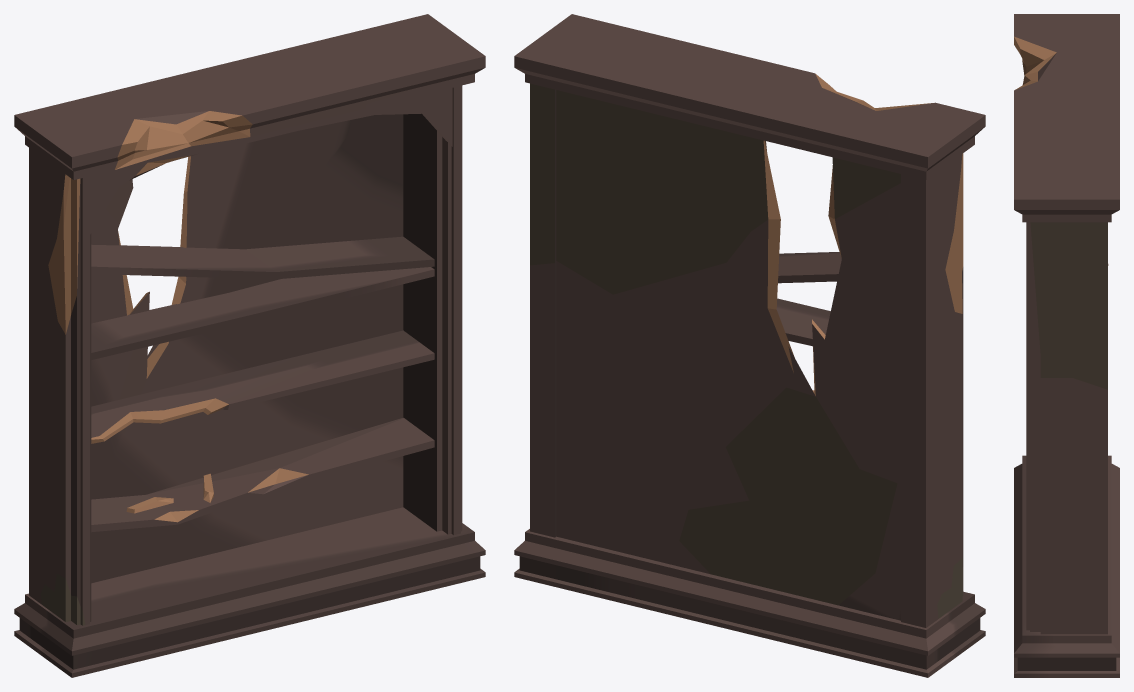
The model's file is SM_Prop_Shelf_02.obj.
3 renders of one model, left to right at view 1: azimuth 30°, elevation 25°; view 2: azimuth 150°, elevation 25°; view 3: azimuth 270°, elevation 25°, orthographic. The views are drawn at different scales.
Parts seen in each view (by area): view 1: SM_Prop_Shelf_02_0, SM_Prop_Shelf_02_1; view 2: SM_Prop_Shelf_02_0; view 3: SM_Prop_Shelf_02_0.
Part boxes in pixels (x1=…): SM_Prop_Shelf_02_0: x1=14, y1=14, x2=485, y2=677; SM_Prop_Shelf_02_1: x1=91, y1=330, x2=434, y2=443; SM_Prop_Shelf_02_0: x1=514, y1=14, x2=985, y2=677; SM_Prop_Shelf_02_0: x1=1014, y1=14, x2=1119, y2=677.
Bounding box in the file's own units: 2.5 × 3.01 × 0.6035.
Materials: 1 (1 with a texture image).
